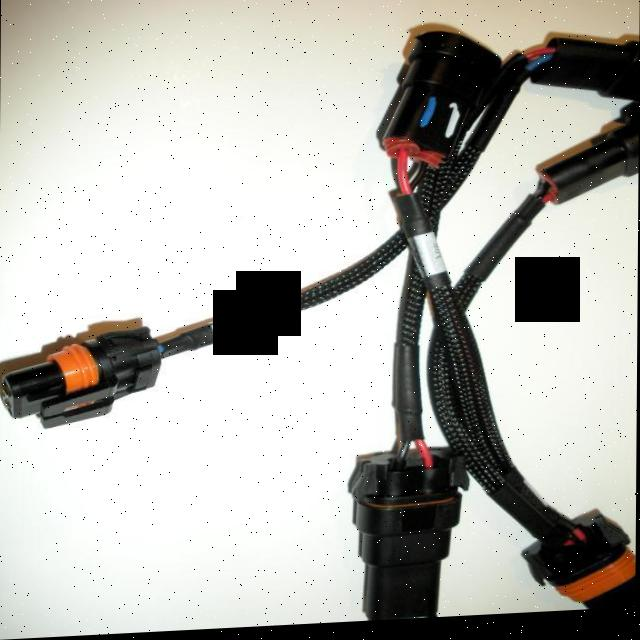connector: (347, 449, 474, 624)
